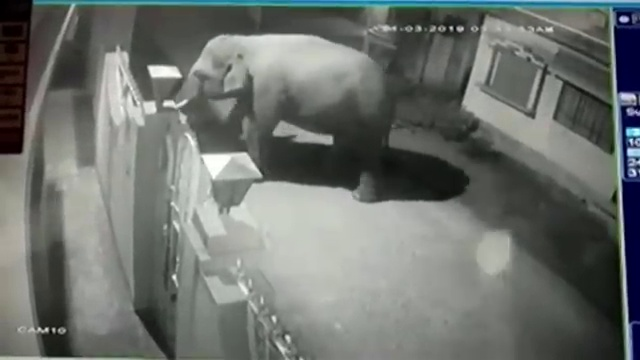Elephant: (174, 34, 394, 204)
